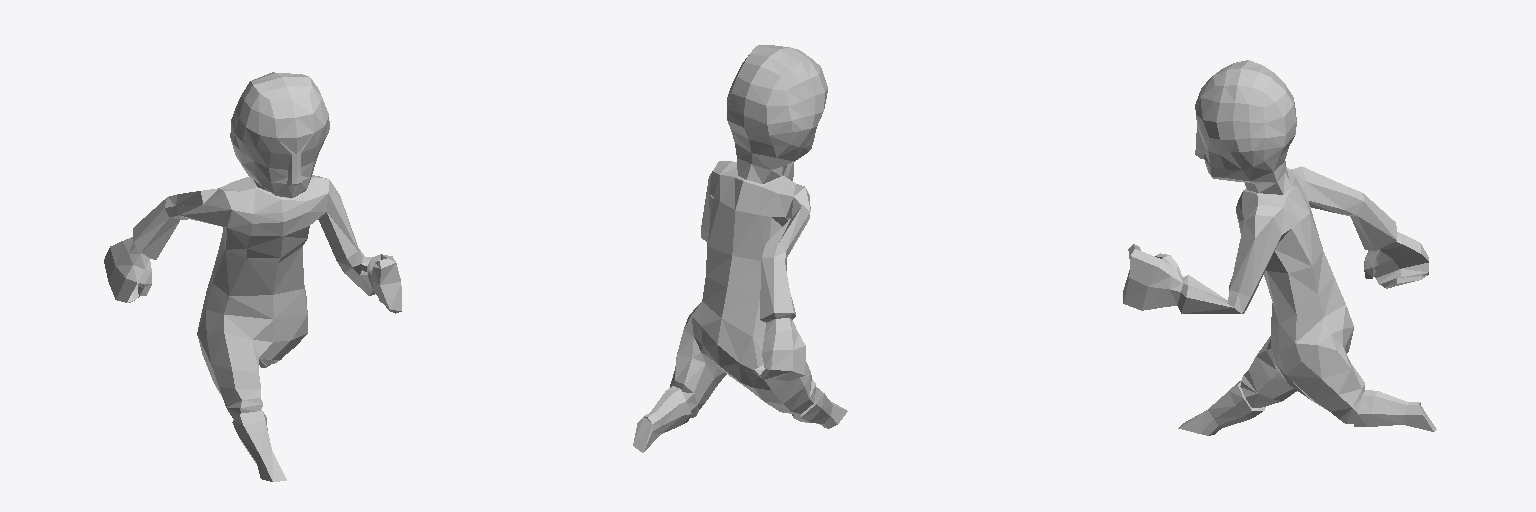
File: KnightCharacter3.obj
The picture shows the model from 3 angles: view 1: azimuth 30°, elevation 25°; view 2: azimuth 150°, elevation 25°; view 3: azimuth 270°, elevation 25°; orthographic projection.
Visible parts, largest first — view 1: Knight; view 2: Knight; view 3: Knight.
Part boxes in pixels (x1,y1,x2,y2): Knight: (104, 72, 401, 481); Knight: (633, 45, 847, 452); Knight: (1123, 60, 1436, 435).
Size of the model in its own units: 2.51 by 5.16 by 3.85.